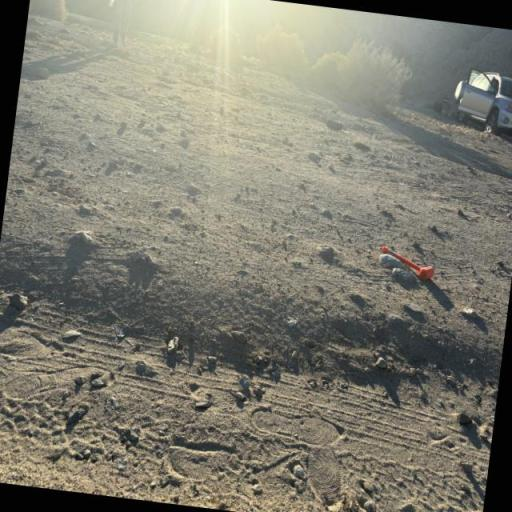mallet: (367, 232, 446, 293)
